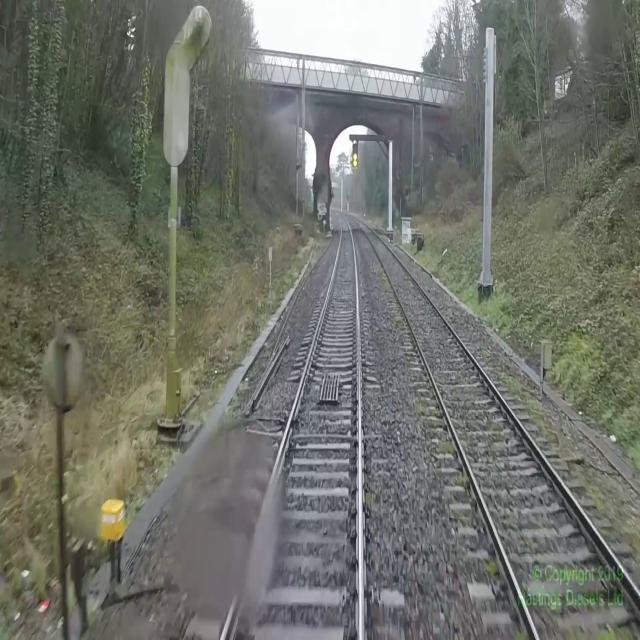rail-track: (354, 218, 640, 639), (224, 218, 359, 639)
